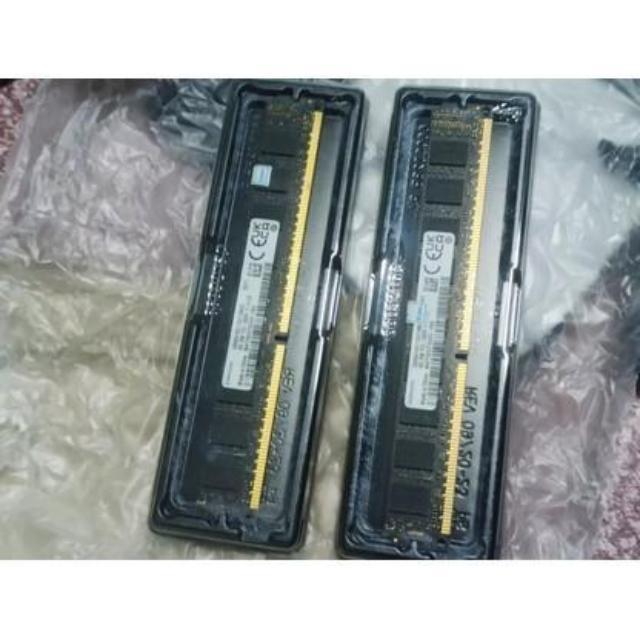RAM: (169, 93, 334, 513), (360, 108, 508, 540)
